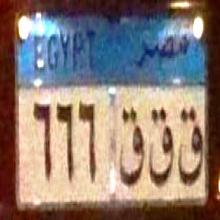6: (77, 95, 100, 187), (55, 95, 74, 182), (33, 102, 53, 178)
qaaf: (176, 96, 206, 191), (146, 98, 174, 194), (117, 102, 145, 192)
